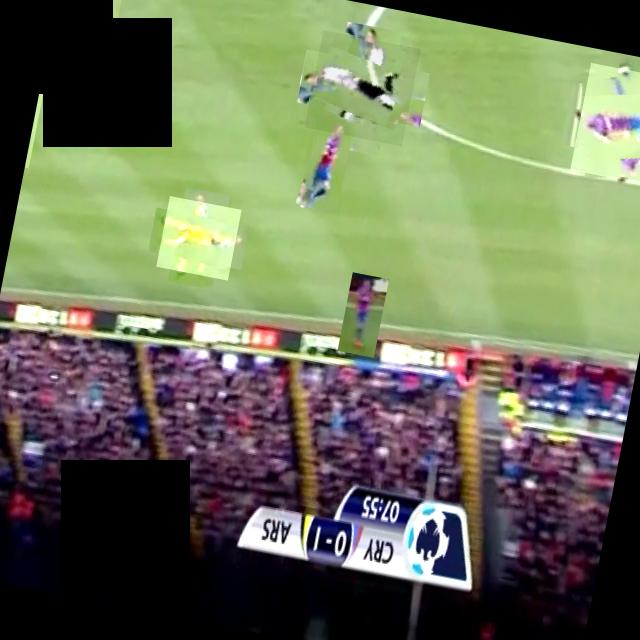referee: (304, 29, 419, 145)
soccer-player: (569, 61, 640, 188), (50, 0, 123, 102), (156, 194, 240, 280), (296, 112, 356, 213), (336, 271, 388, 357), (24, 64, 48, 168)
